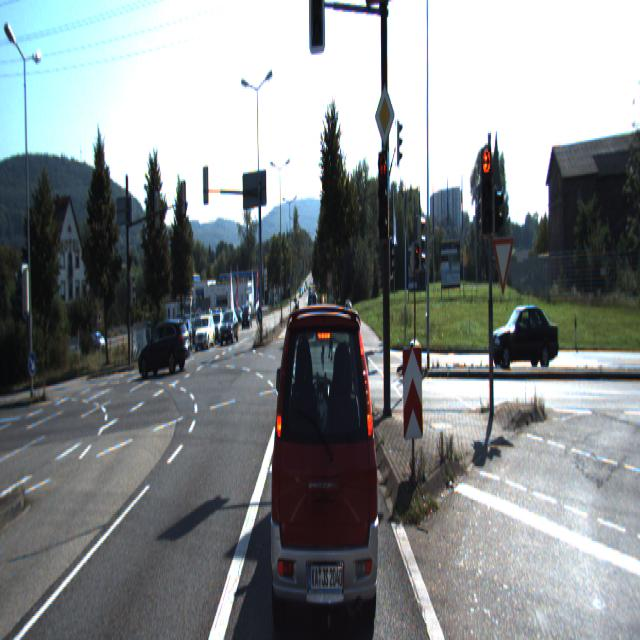Car: (267, 276, 381, 634), (488, 298, 560, 373), (138, 320, 192, 378), (172, 321, 193, 355), (195, 316, 215, 350), (218, 310, 238, 344)
